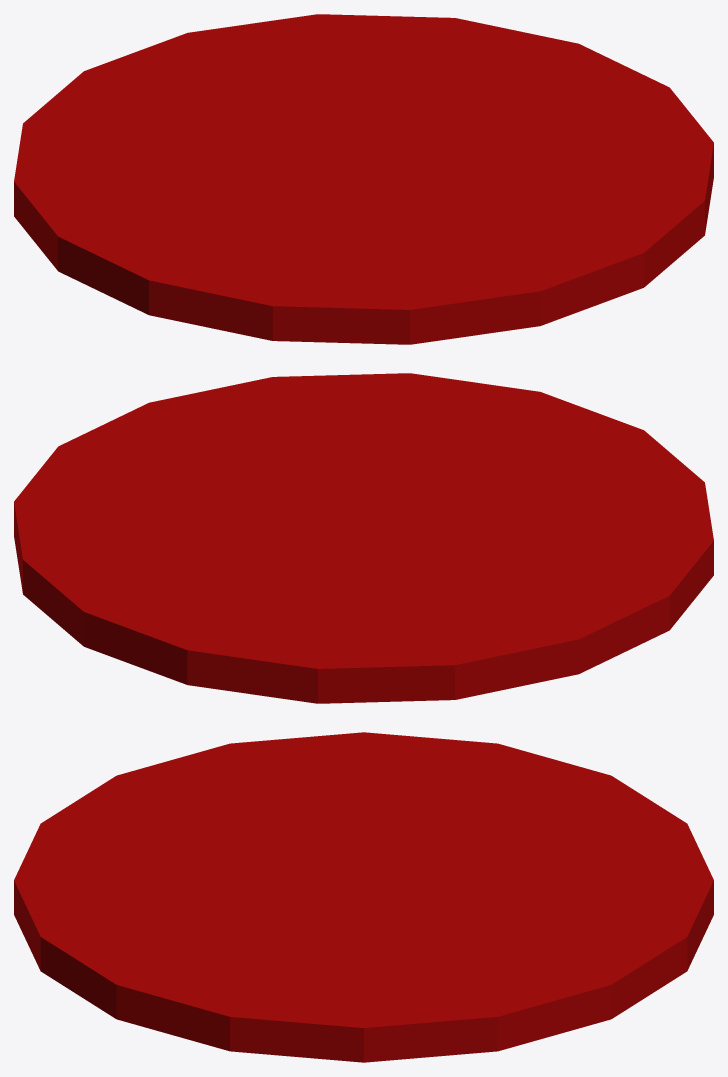
File: pepperoni.fbx
3 renders of one model, top to bottom at view 1: azimuth 30°, elevation 25°; view 2: azimuth 150°, elevation 25°; view 3: azimuth 270°, elevation 25°, orthographic.
Parts seen in each view (by area): view 1: Circle; view 2: Circle; view 3: Circle.
Part boxes in pixels (x1,y1,x2,y2): Circle: [14, 14, 713, 344]; Circle: [14, 373, 713, 703]; Circle: [14, 732, 713, 1062].
Size of the model in its own units: 100 by 5.45 by 100.
